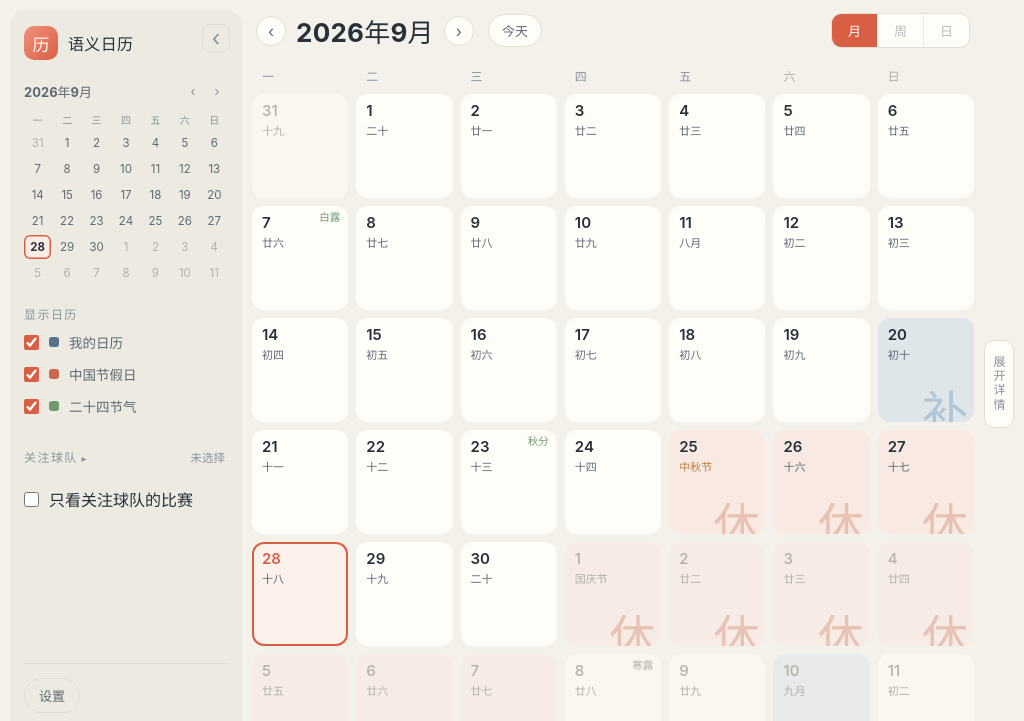
窗口行为（SC-002） › 桌面壳把隐藏降级为退出时（托盘不可用）说明真实行为（§13）
The image size is (1024, 721).
Click the button "设置".
click(52, 695)  # box top-left (24, 678), bottom-right (80, 713)
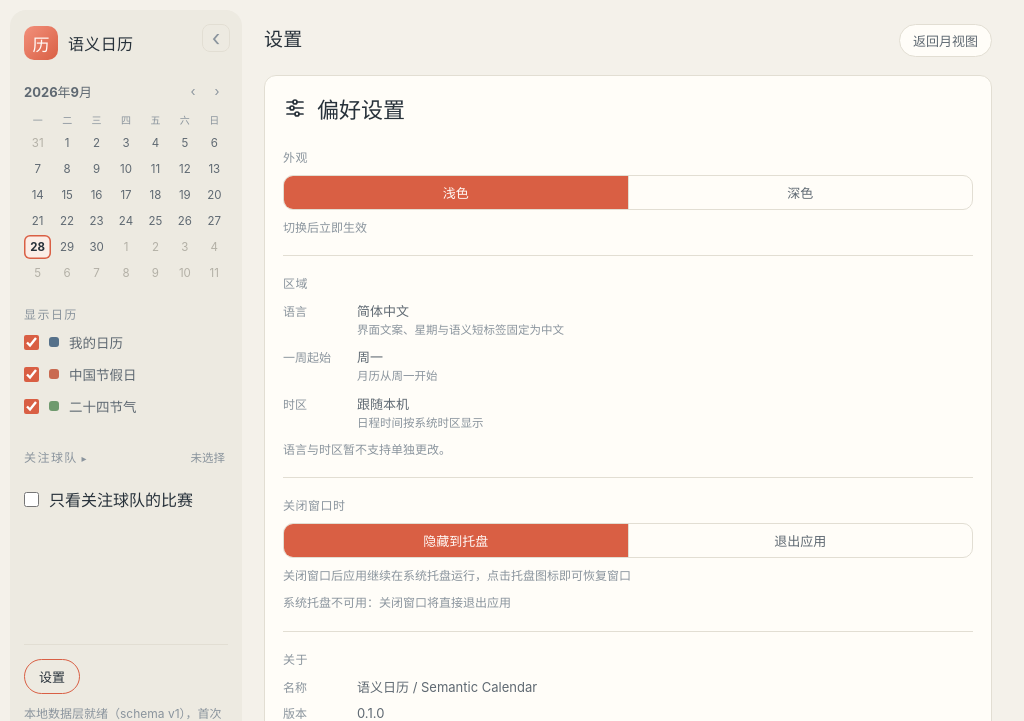
Check: the text "系统托盘不可用：关闭窗口将直接退出应用" is shown, box top-left (283, 595), bottom-right (511, 610)
